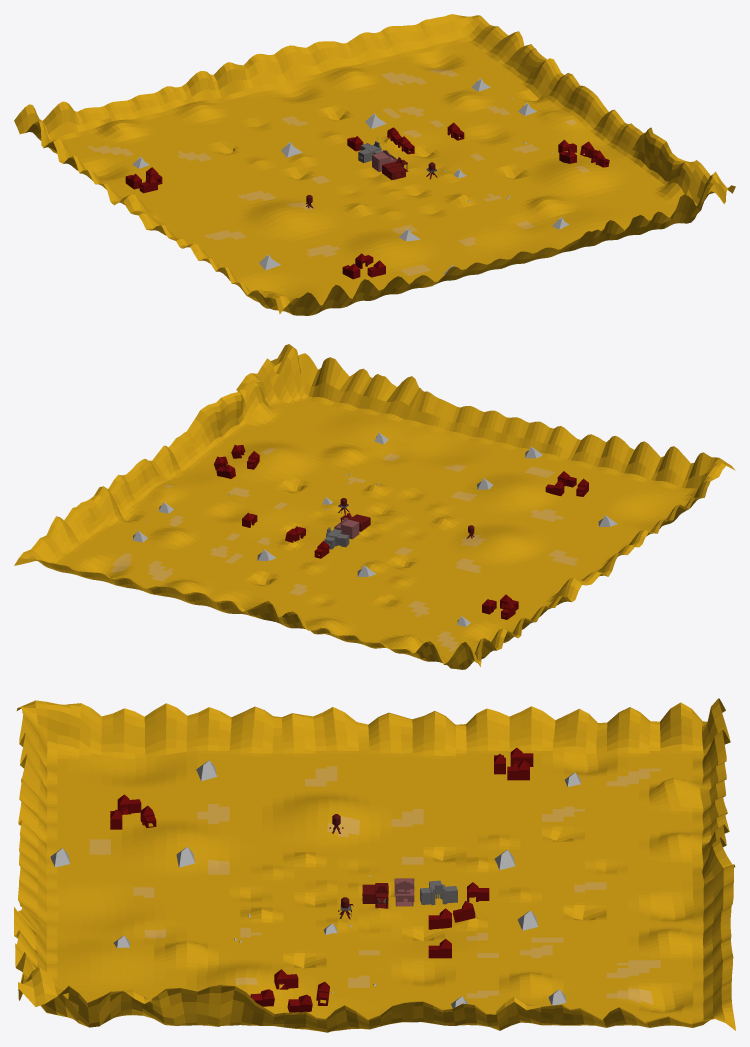
The model's file is Land.fbx.
3 views of the same model, one above another, from view 1: azimuth 30°, elevation 25°; view 2: azimuth 150°, elevation 25°; view 3: azimuth 270°, elevation 25° (orthographic). The views are drawn at different scales.
Visible parts, largest first — view 1: Plane; view 2: Plane; view 3: Plane, Cube.022, Cube, Cube.016.
Part boxes in pixels (x1,y1,x2,y2): Plane: [14, 14, 735, 315]; Plane: [14, 344, 735, 669]; Plane: [14, 698, 735, 1032]; Cube.022: [420, 880, 457, 905]; Cube: [362, 883, 388, 908]; Cube.016: [394, 878, 414, 906].
Bounding box in the file's own units: 135060 × 14535 × 135166.
